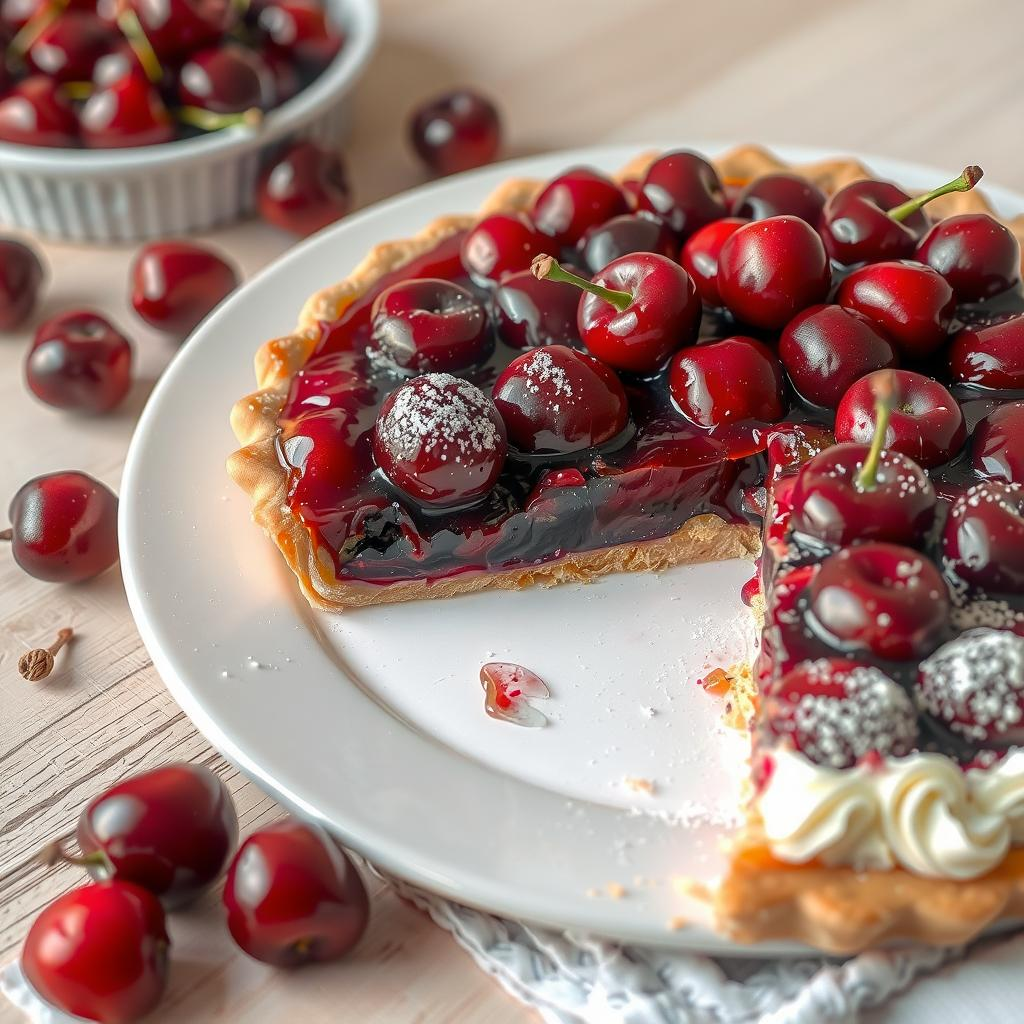pie: (211, 133, 1024, 951)
